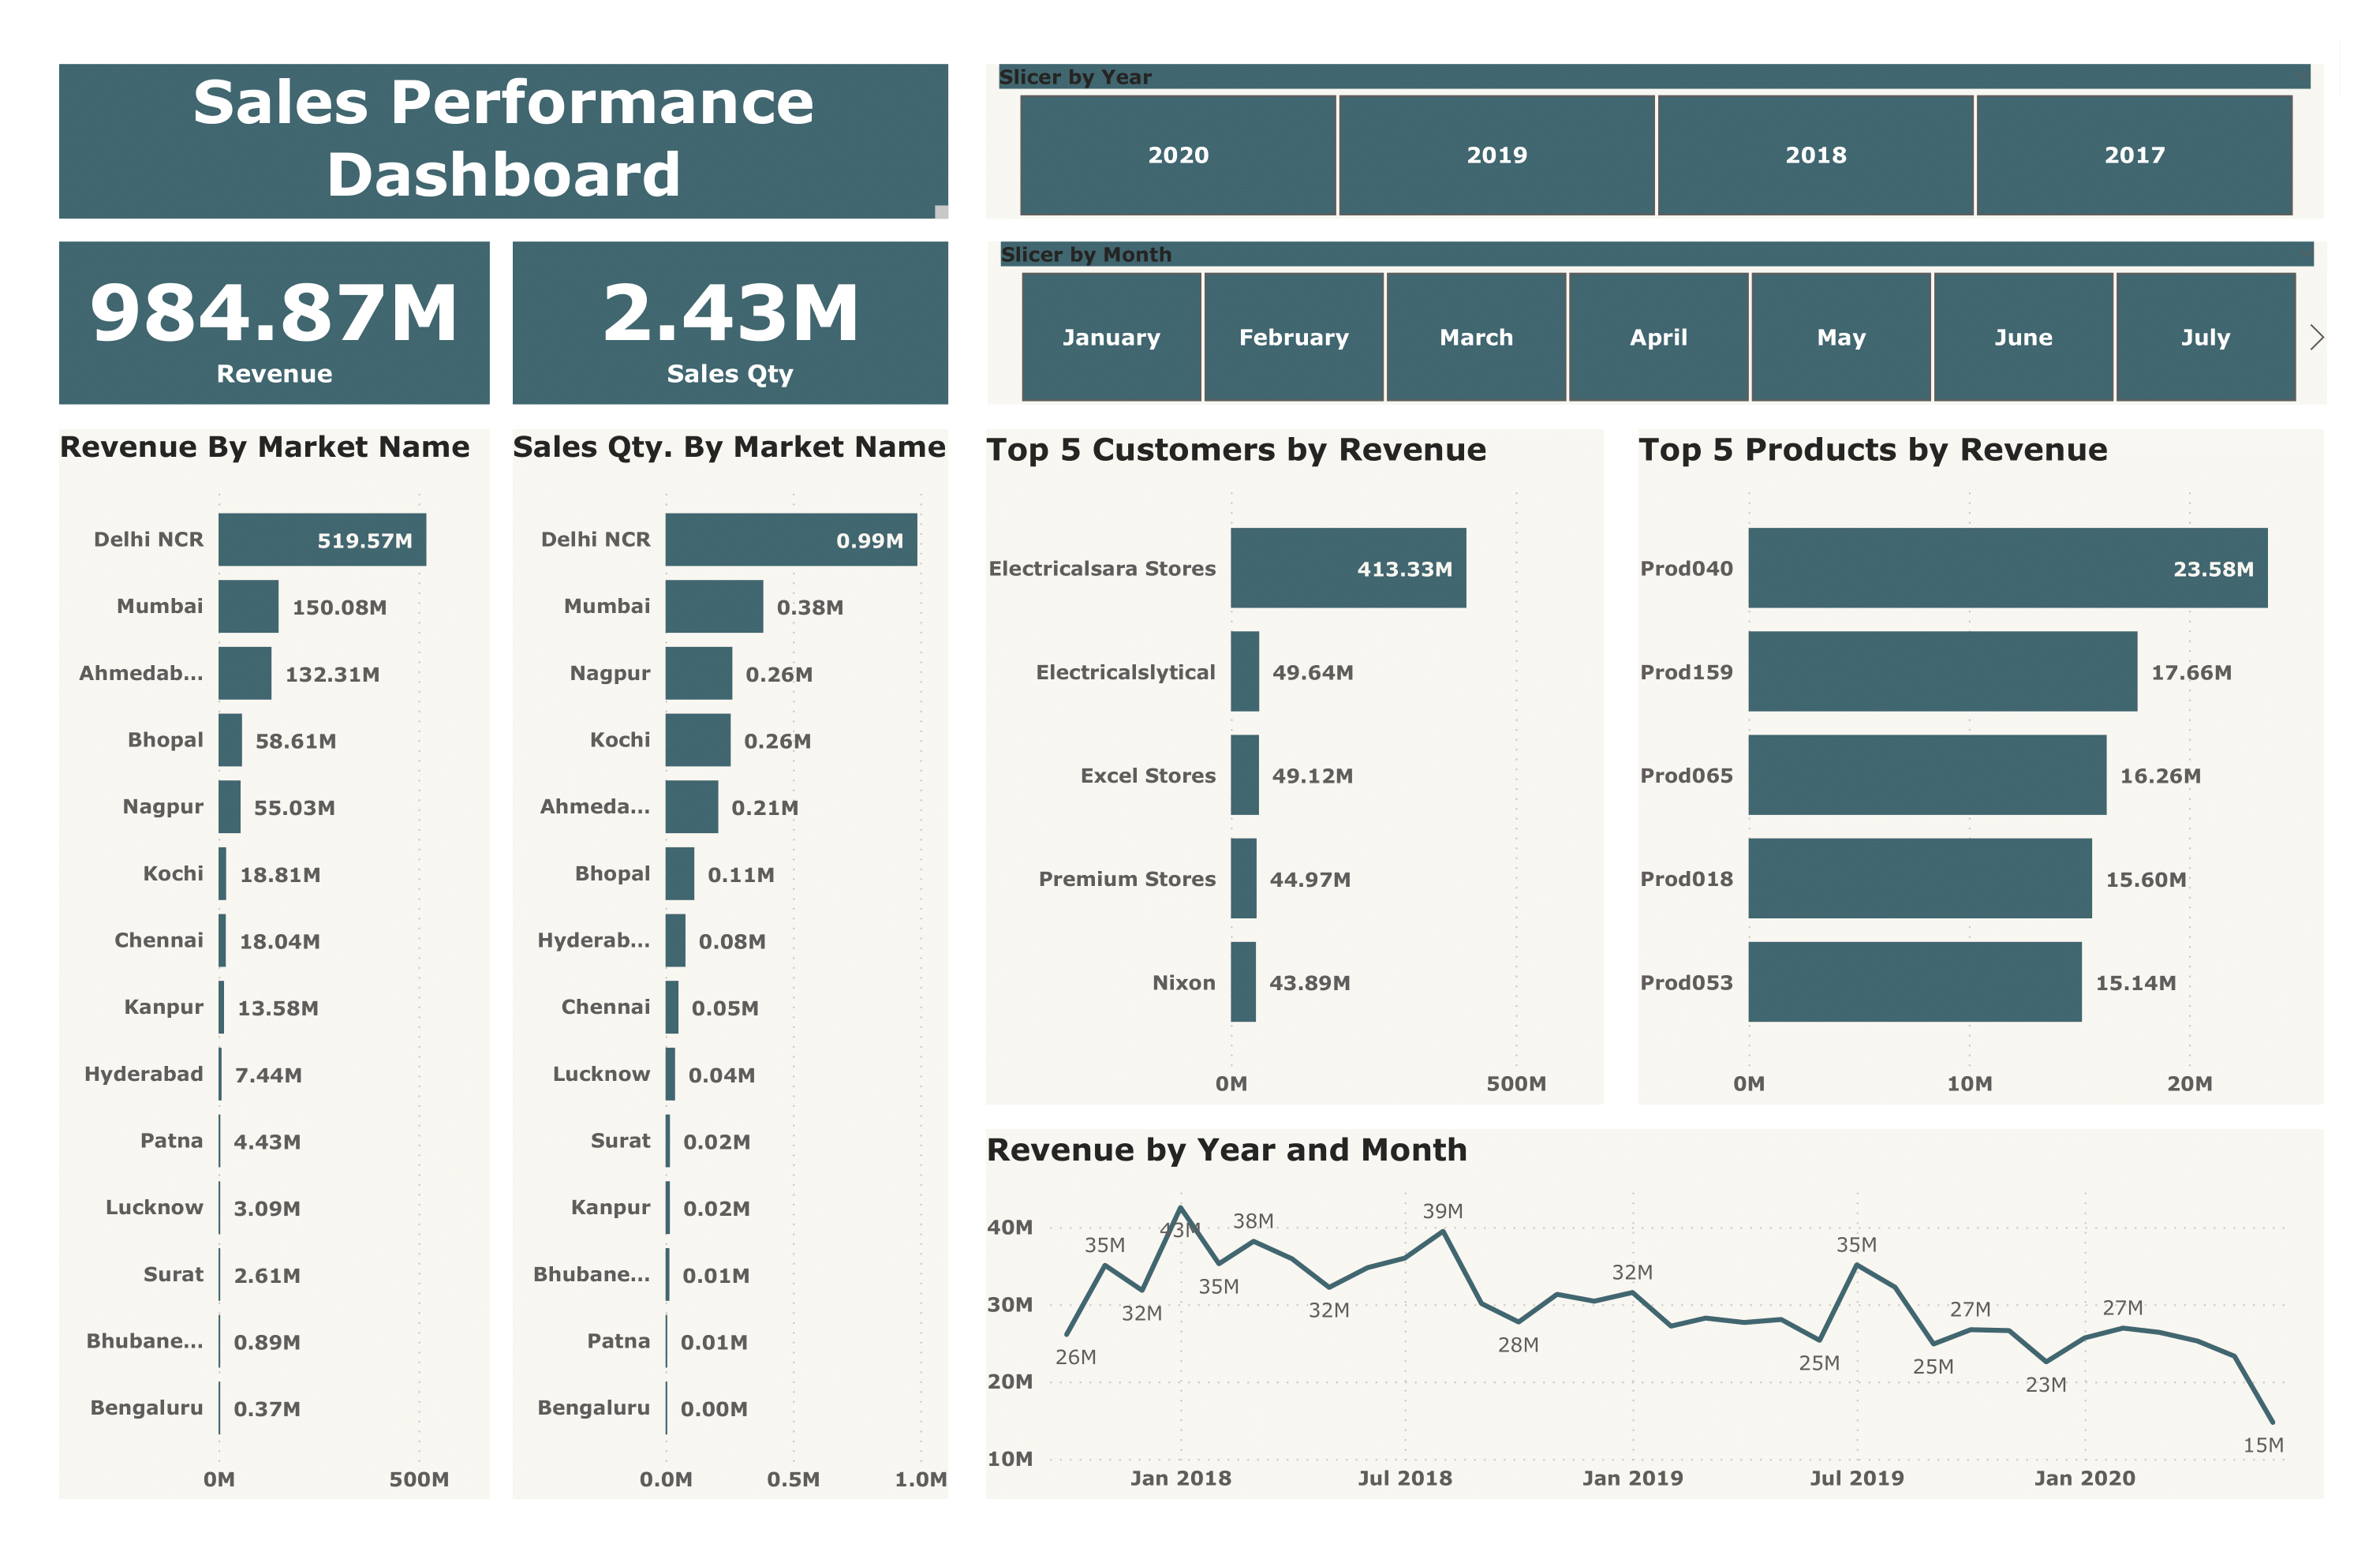

What the dashboard file says about the page in this screenshot:
{"tool":"powerbi","page":{"name":"Page 1","canvas":[1400,900],"ordinal":0},"visuals":[{"type":"card","fields":{"Values":["Base Measure.Sales Qty"]},"box":[287.9,123,265.4,99],"z":0},{"type":"card","title":"bdbad","fields":{"Values":["Base Measure.Revenue"]},"box":[12,123,262.4,99],"z":1000},{"type":"barChart","title":"Revenue By Market Name","fields":{"Y":["Base Measure.Revenue"],"Category":["sales markets.markets_name"]},"box":[12,236.9,262.4,650.8],"z":2000},{"type":"barChart","title":"Sales Qty. By Market Name","fields":{"Y":["Base Measure.Sales Qty"],"Category":["sales markets.markets_name"]},"box":[287.9,236.9,265.4,650.8],"z":3000},{"type":"slicer","fields":{"Values":["sales date.year"]},"box":[575.8,15,814.3,94.5],"z":4000},{"type":"slicer","fields":{"Values":["sales date.month_name"]},"box":[577.3,123,814.3,99],"z":5000},{"type":"barChart","title":"Top 5 Customers by Revenue","fields":{"Y":["Base Measure.Revenue"],"Category":["sales customers.custmer_name"]},"box":[575.8,236.9,376.4,410.9],"z":6000},{"type":"barChart","title":"Top 5 Products by Revenue","fields":{"Category":["sales products.product_code"],"Y":["Base Measure.Revenue"]},"box":[973.2,236.9,416.9,410.9],"z":7000},{"type":"lineChart","title":"    Revenue by Year and Month","fields":{"Y":["Base Measure.Revenue"],"Category":["sales date.cy_date.Variation.Date Hierarchy.Year","sales date.cy_date.Variation.Date Hierarchy.Quarter","sales date.cy_date.Variation.Date Hierarchy.Month","sales date.cy_date.Variation.Date Hierarchy.Day"]},"box":[575.8,662.8,814.3,224.9],"z":8000},{"type":"textbox","title":"Sales Performance Dashboard","box":[12,15,541.3,94.5],"z":9000}]}

Visuals, with their boxes on the page's 1400x900 design canvas (x1, y1, x2, y2). These are canvas units, not pixel positions in the 2380x1559 screenshot, which may show the page scaled, cropped or inside an application window:
card - Base Measure.Sales Qty: Rect(288, 123, 553, 222)
"bdbad" card: Rect(12, 123, 274, 222)
"Revenue By Market Name" barChart: Rect(12, 237, 274, 888)
"Sales Qty. By Market Name" barChart: Rect(288, 237, 553, 888)
slicer - sales date.year: Rect(576, 15, 1390, 110)
slicer - sales date.month_name: Rect(577, 123, 1392, 222)
"Top 5 Customers by Revenue" barChart: Rect(576, 237, 952, 648)
"Top 5 Products by Revenue" barChart: Rect(973, 237, 1390, 648)
"    Revenue by Year and Month" lineChart: Rect(576, 663, 1390, 888)
"Sales Performance Dashboard" textbox: Rect(12, 15, 553, 110)
